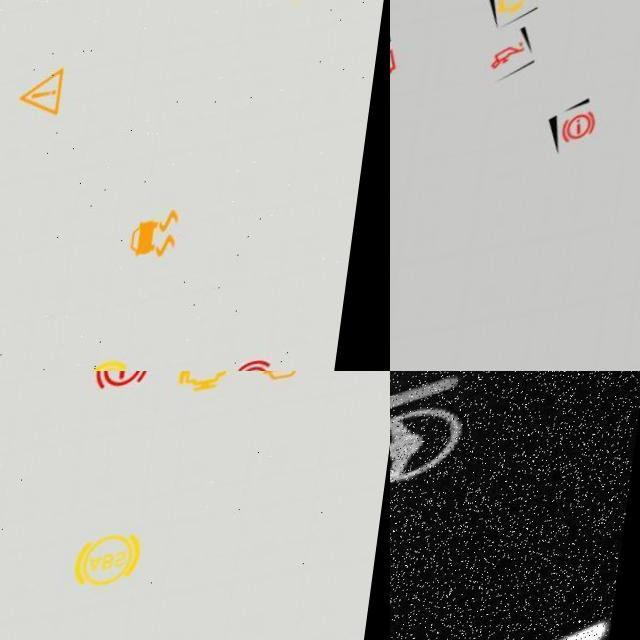Electronic Power Steering: (390, 371, 493, 520)
